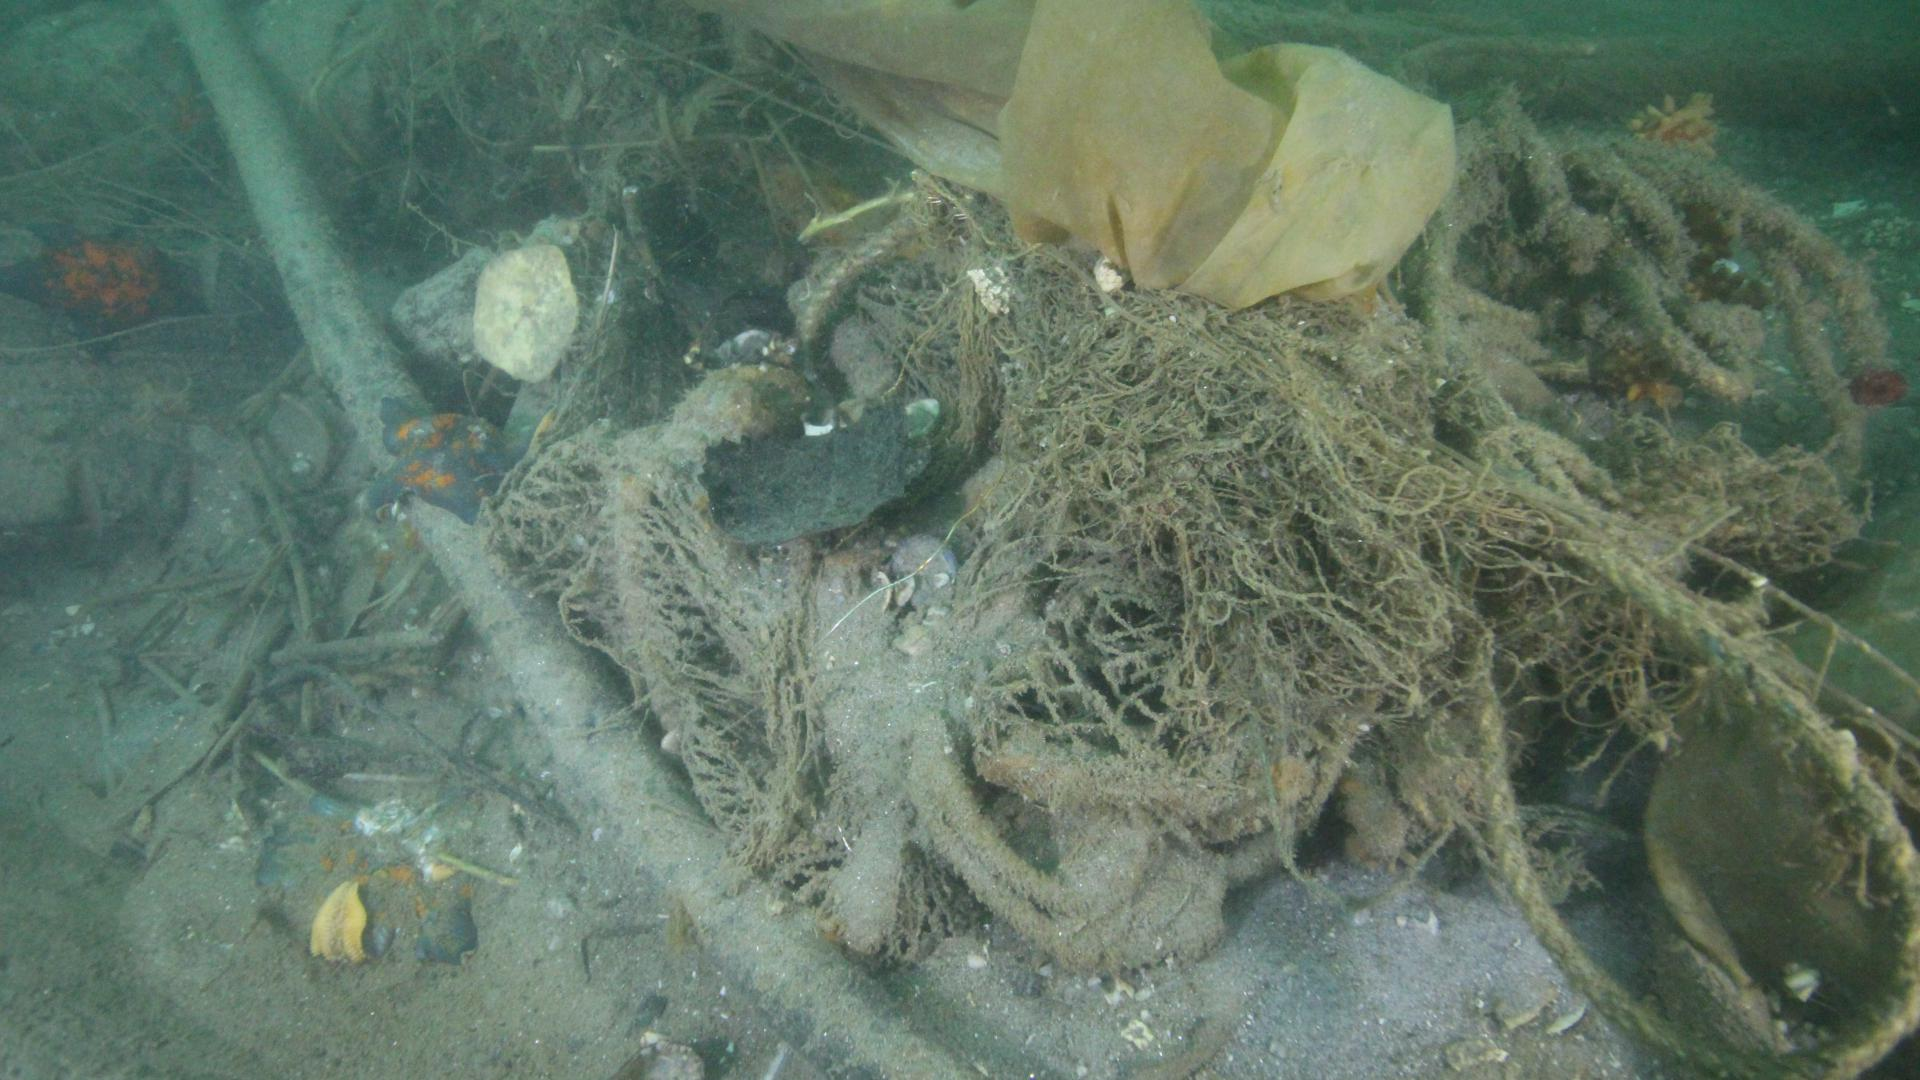bundle of ropes: (1414, 80, 1894, 476)
rope: (1462, 537, 1920, 1080), (796, 215, 915, 347)
